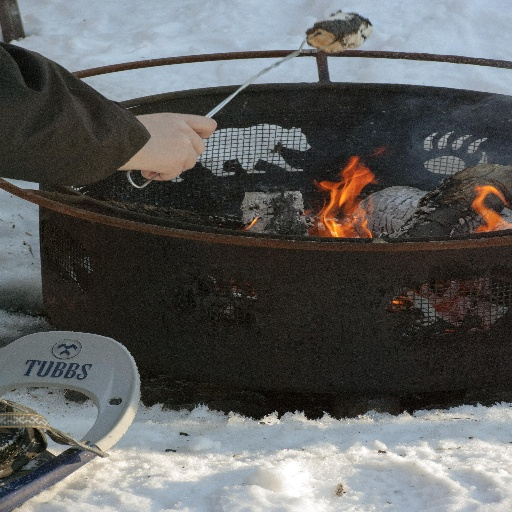hand: (126, 103, 216, 180)
